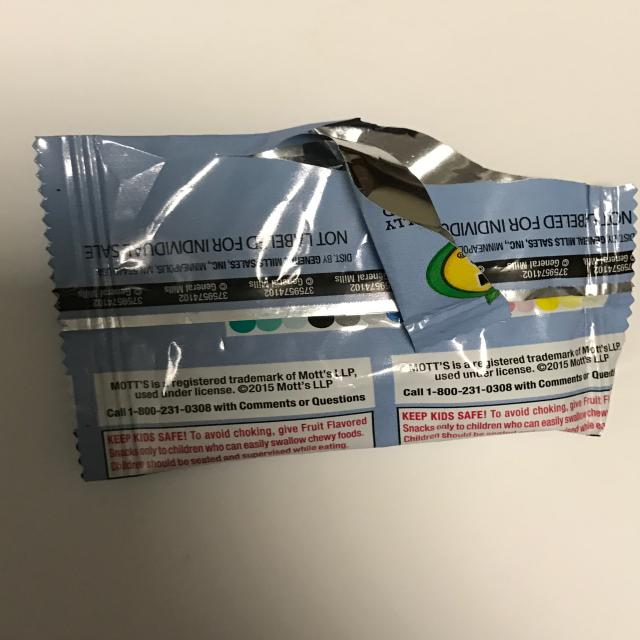Trash: (31, 118, 638, 482)
